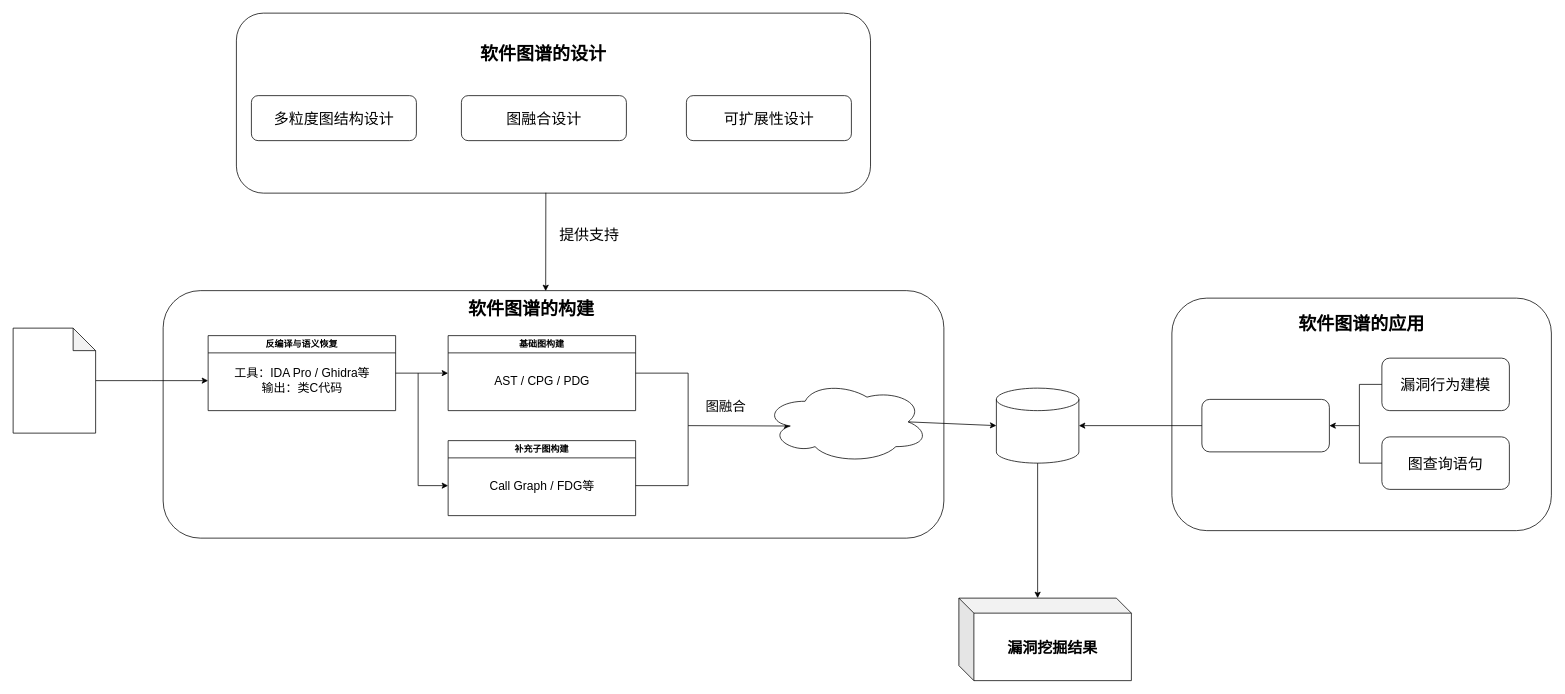
Image size: 1565x694. Some labels were removed from this diagram. Each missing label, with the centre of its shape:
二进制程序: the point at 54,380
图数据库: the point at 1037,425
增强CPG图: the point at 846,421
漏洞查询语句: the point at 1265,425
